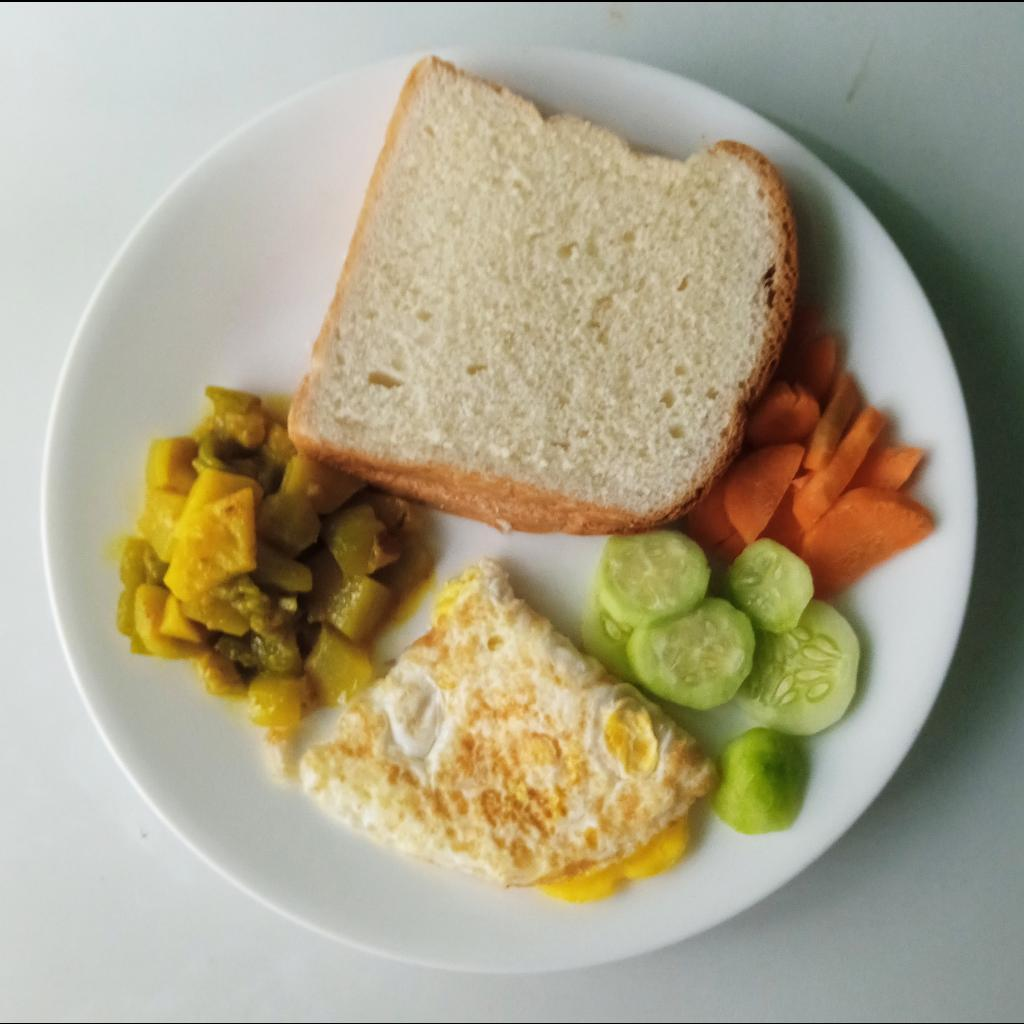bread: (283, 57, 801, 533)
carrot: (689, 309, 935, 593)
cucumber: (580, 529, 862, 834)
egg-poached: (298, 556, 717, 901)
vegetable: (115, 384, 429, 737)
